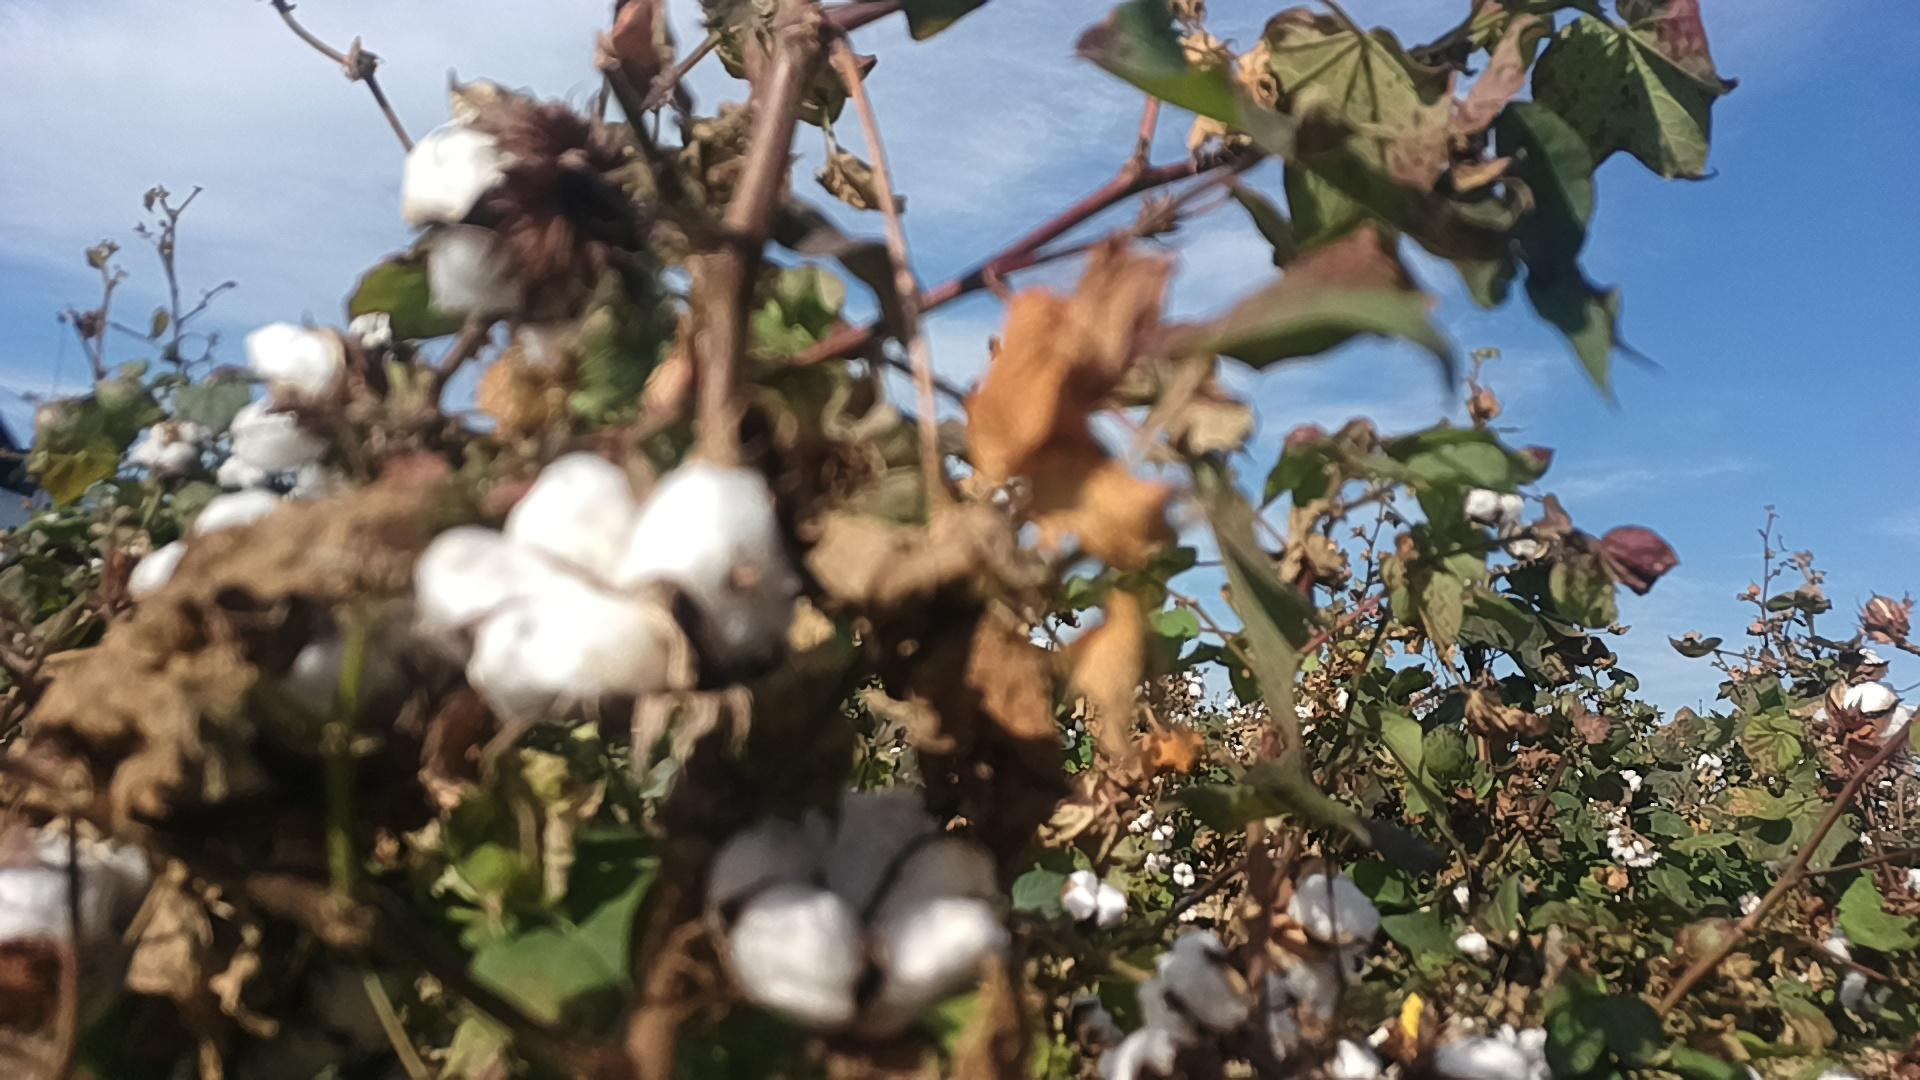cotton_ready: (418, 455, 778, 705), (712, 795, 1004, 1019), (133, 485, 404, 719), (1104, 926, 1345, 1080), (400, 105, 543, 322), (0, 828, 148, 957), (228, 326, 348, 483), (1440, 1007, 1557, 1080), (1830, 683, 1920, 771), (1294, 874, 1386, 945)
